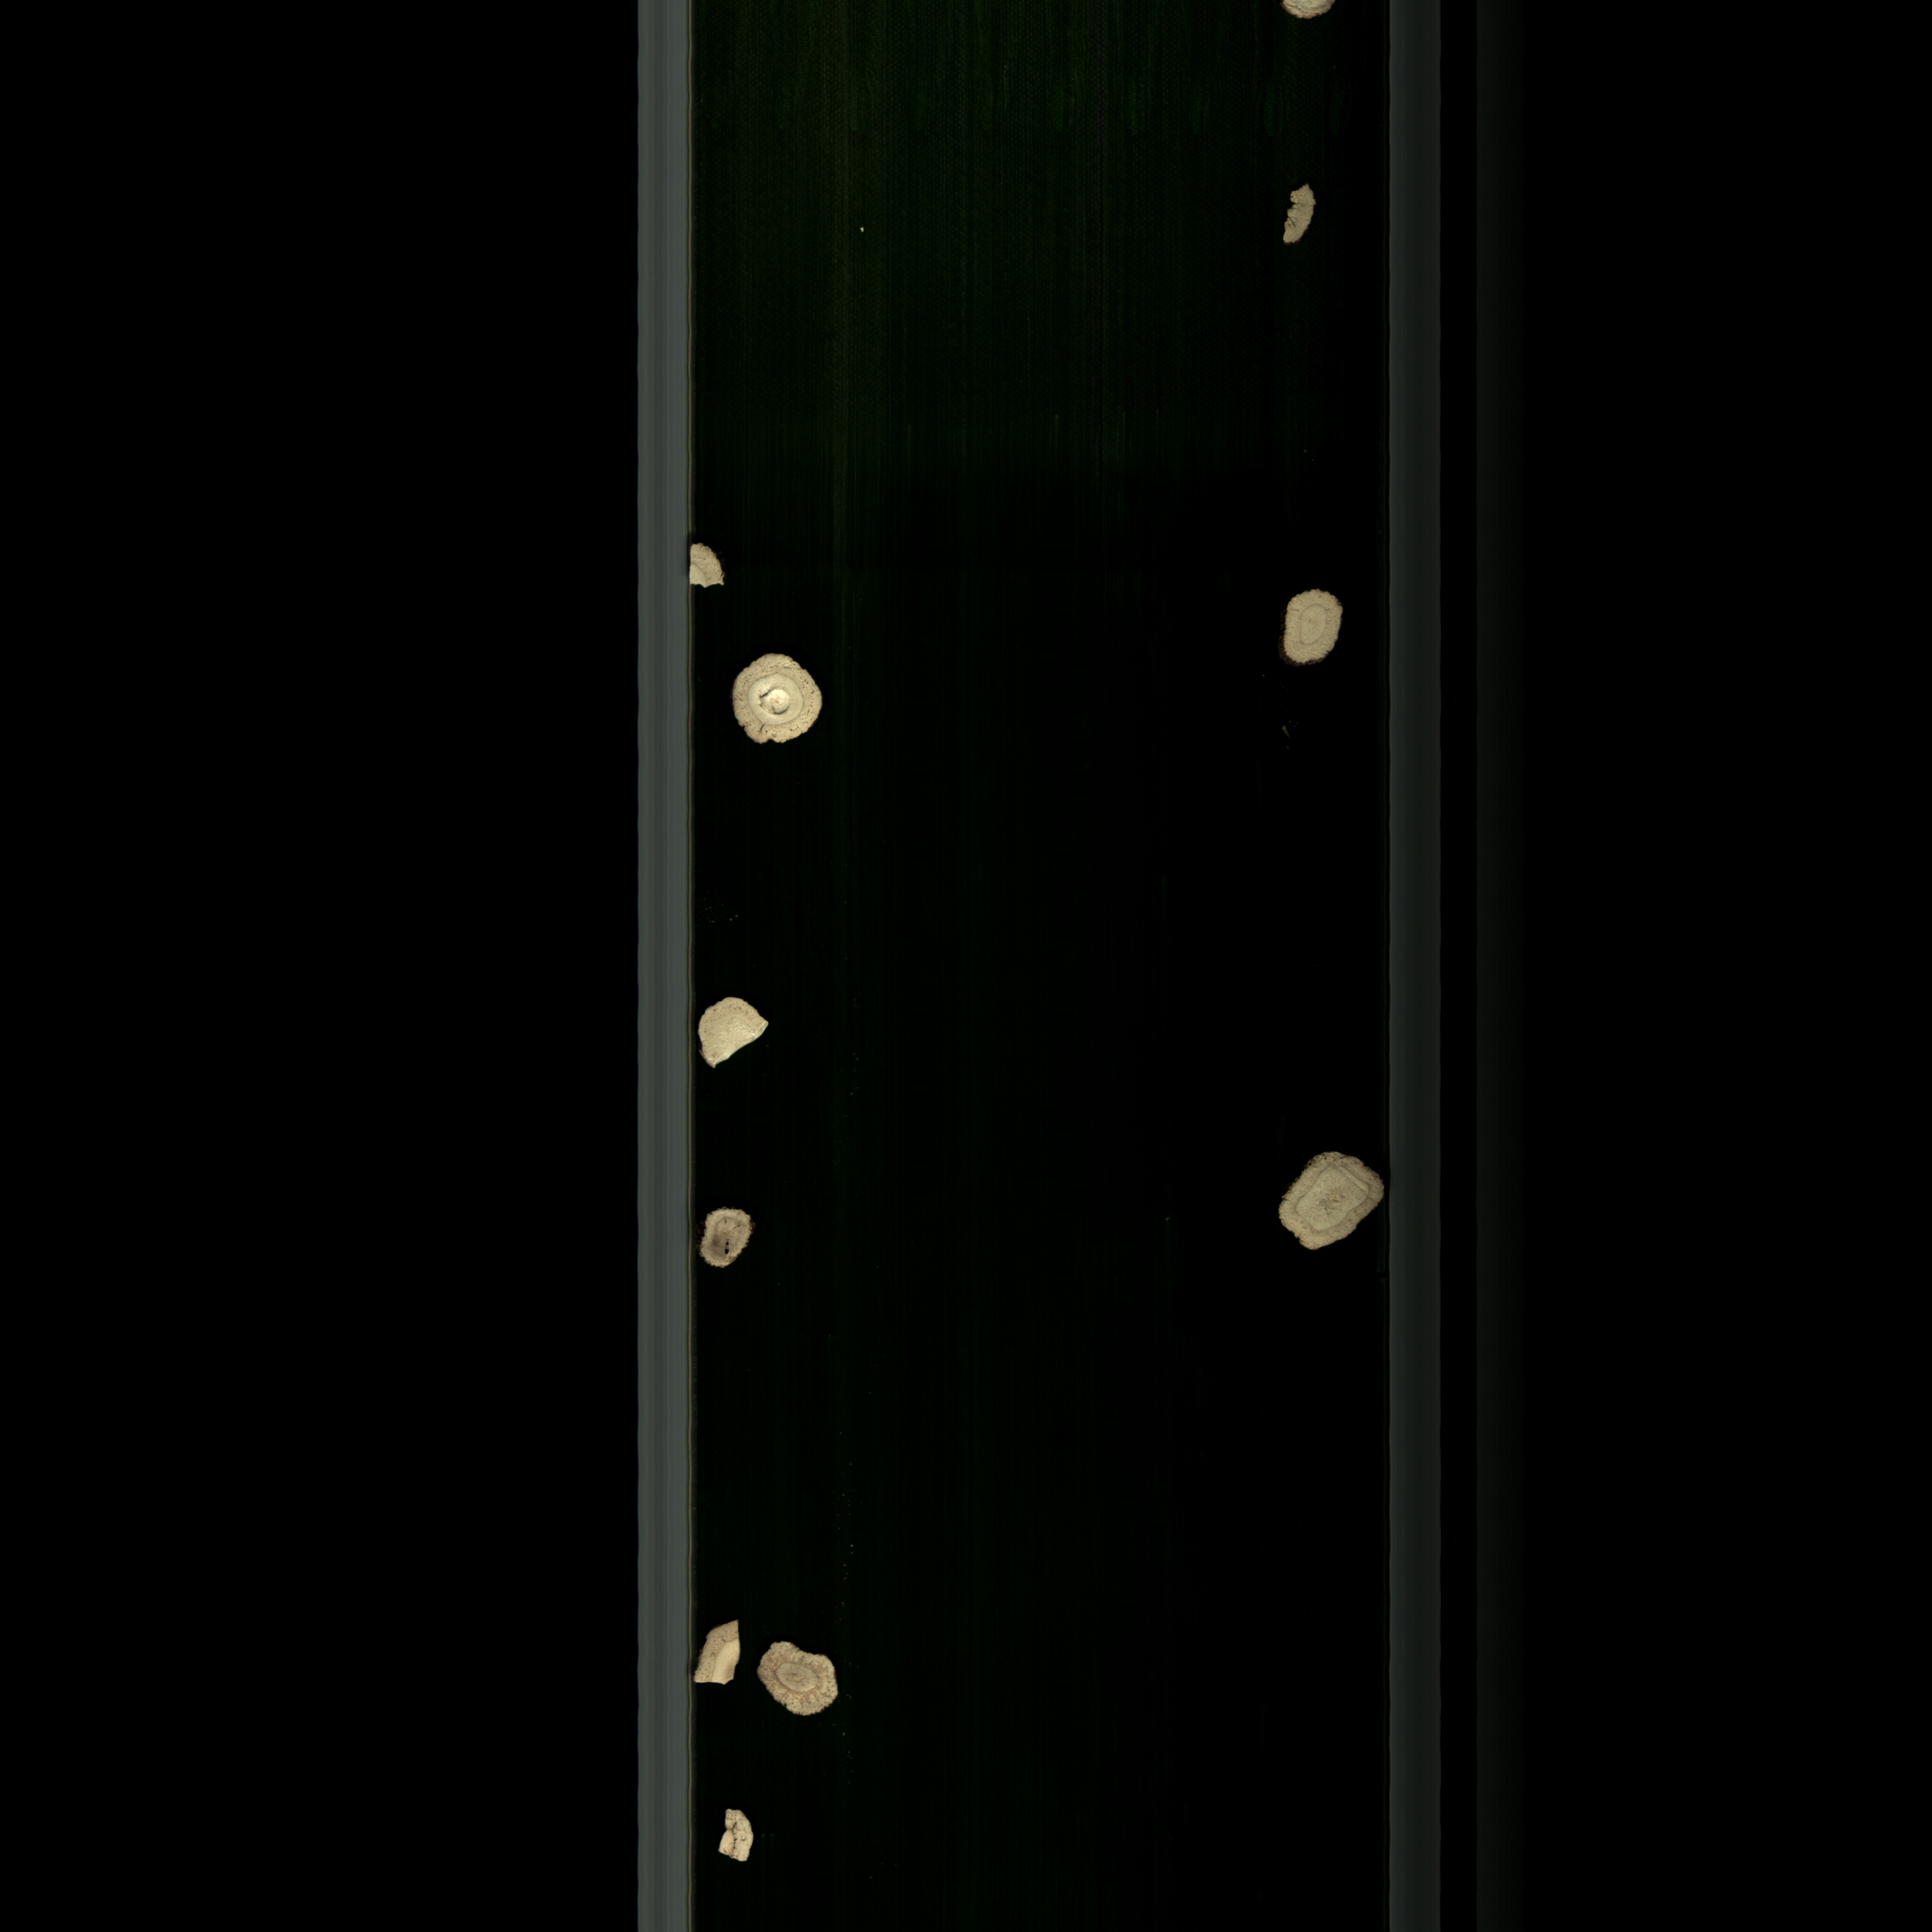debris: (692, 991, 798, 1081), (694, 1608, 757, 1707), (674, 533, 740, 594)
distortion: (1270, 1139, 1389, 1267), (1279, 584, 1352, 679)
dreg: (704, 1789, 786, 1886)
hole: (724, 633, 867, 770)
moldy: (745, 1637, 874, 1734), (695, 1178, 766, 1286), (1274, 172, 1316, 262)
